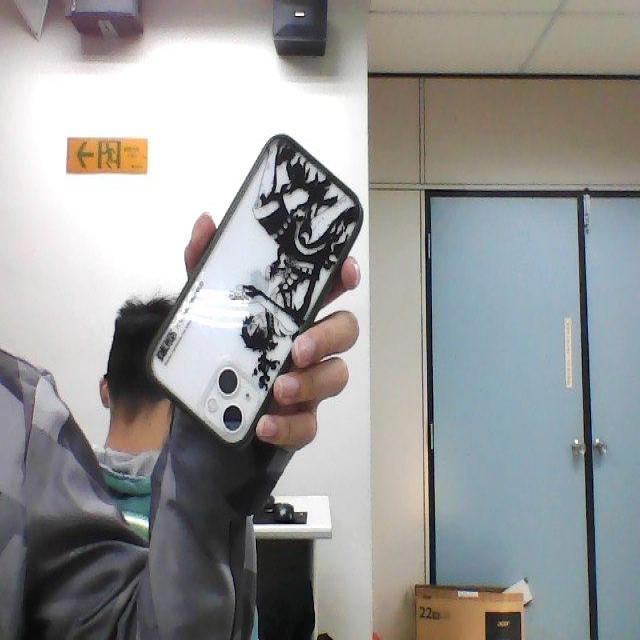phone: (138, 123, 371, 463)
